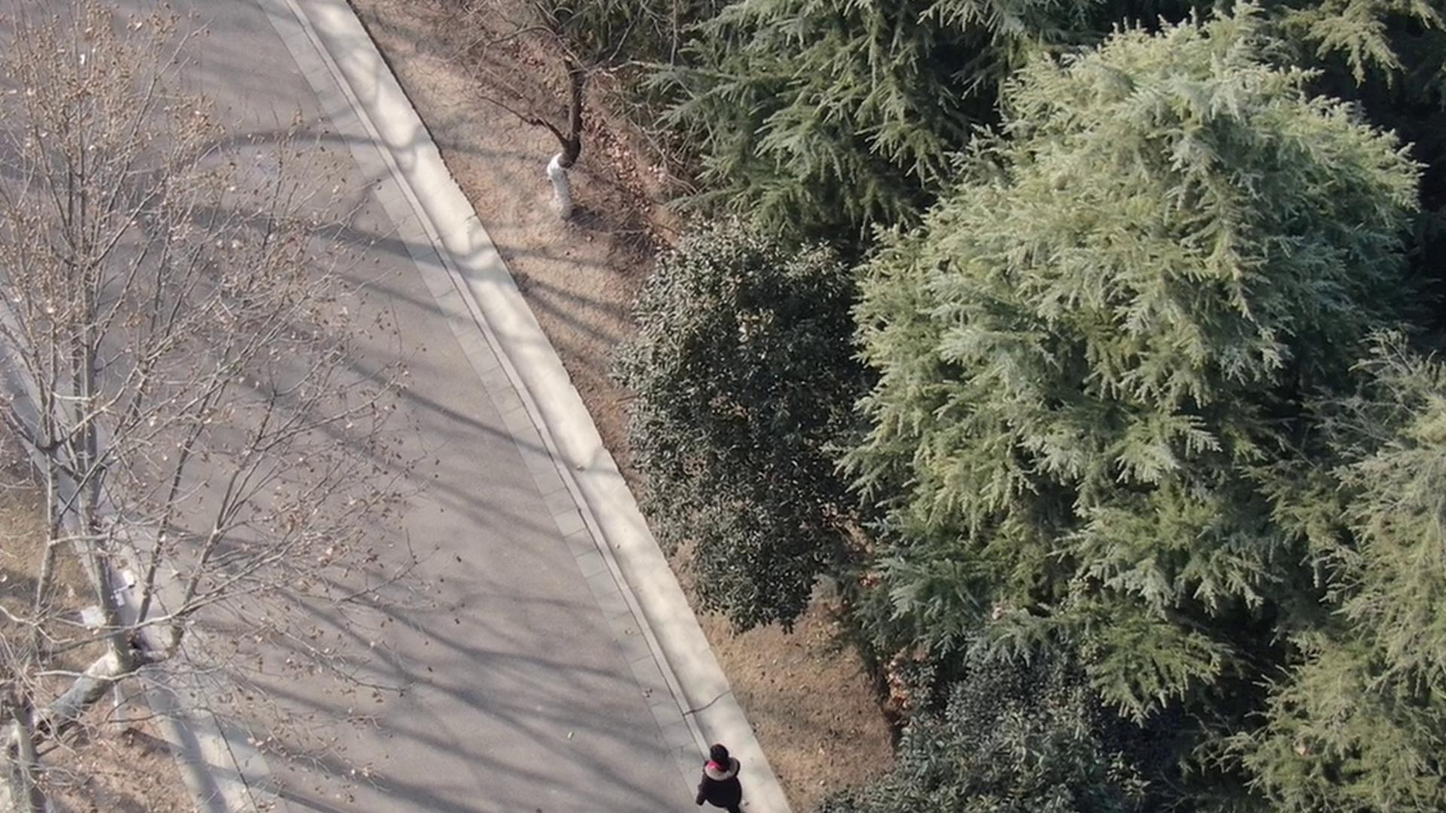human: (689, 746, 752, 813)
